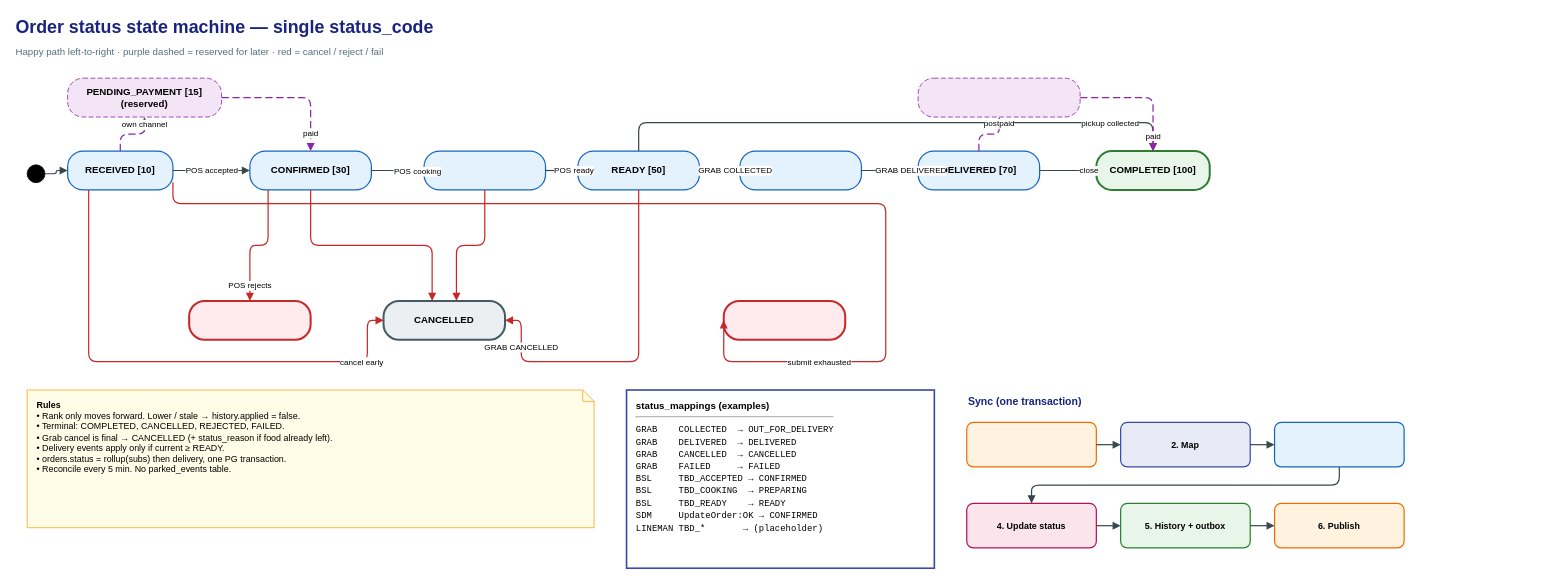
Image size: 1567x582. Some labels were removed from this diagram. The shapes that lost their labels are listed below. From the top down, each one's centre as x and y in pixels, then its label:
(x=998, y=97): AWAITING_PAYMENT [75] (reserved)
(x=484, y=170): PREPARING [40]
(x=800, y=170): OUT_FOR_ DELIVERY [60]
(x=249, y=320): REJECTED
(x=784, y=320): FAILED
(x=1031, y=444): 1. Event in
(x=1339, y=444): 3. Rank check
